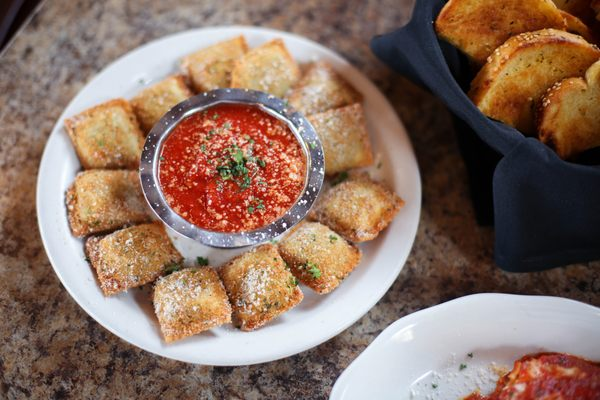sushi: (23, 22, 424, 371), (371, 0, 600, 274), (139, 88, 327, 251), (327, 291, 600, 395)
